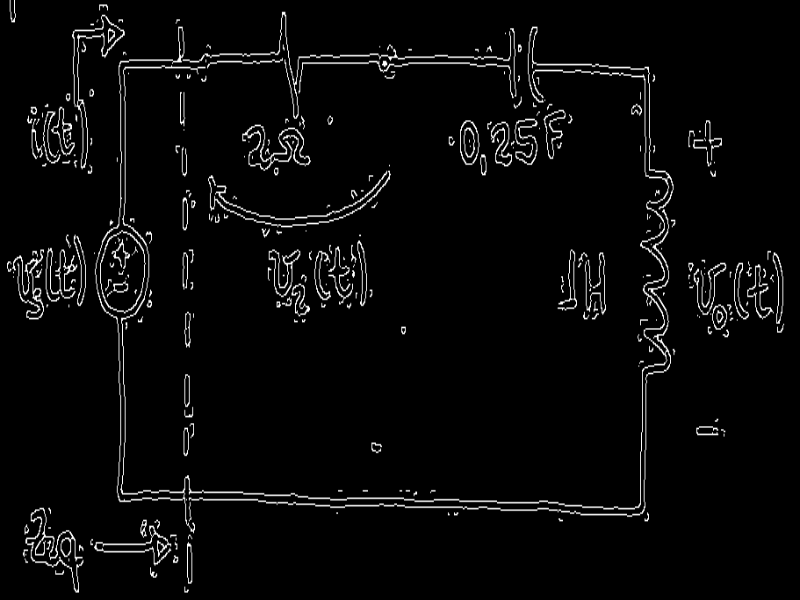-: (695, 423, 719, 440), (110, 279, 130, 294)
0: (457, 116, 481, 167), (710, 303, 728, 332)
1: (555, 246, 580, 317)
2: (245, 121, 274, 173), (488, 119, 513, 167), (290, 283, 309, 318)
5: (513, 116, 539, 169)
F: (541, 108, 567, 161)
H: (580, 248, 607, 316)
V: (691, 257, 728, 318), (267, 244, 302, 302), (10, 251, 41, 307)
